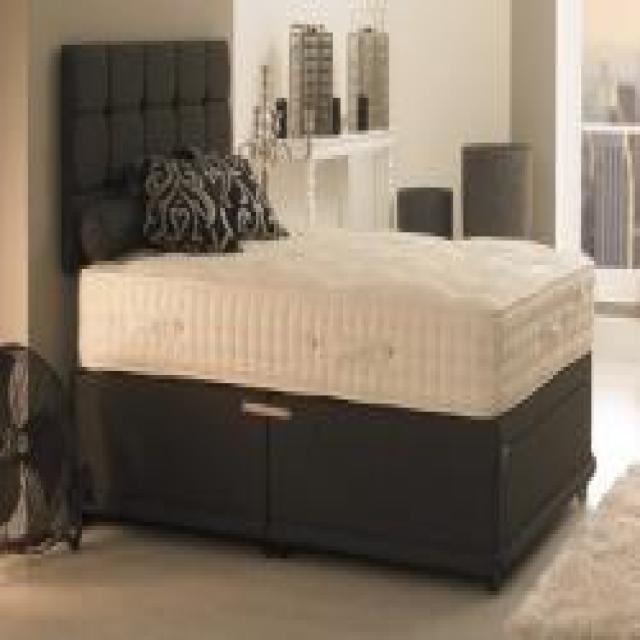bed: (58, 39, 595, 590)
